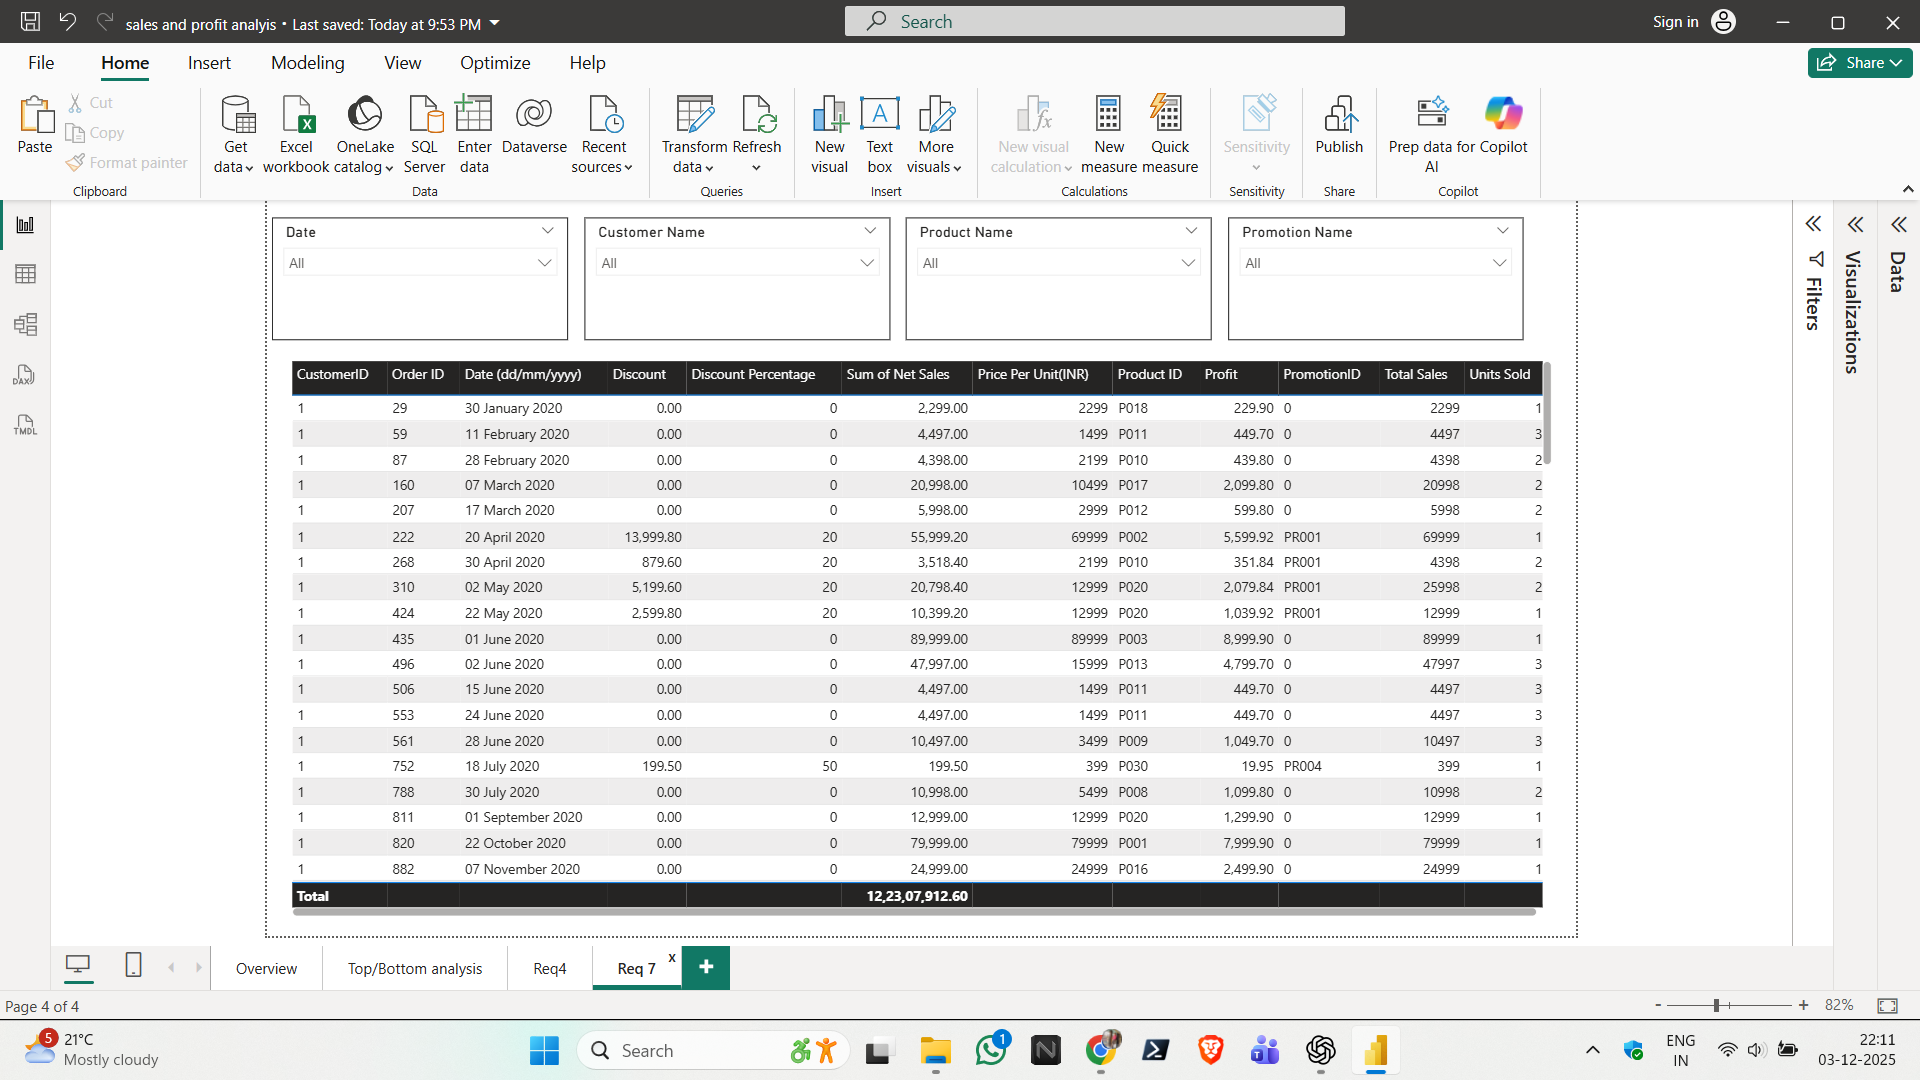

This screenshot's page, from the dashboard's own definition file:
{"tool":"powerbi","page":{"name":"Req 7","canvas":[1280,720],"ordinal":3},"visuals":[{"type":"tableEx","fields":{"Values":["facttable.CustomerID","facttable.Order ID","facttable.Date (dd/mm/yyyy)","facttable.Discount","facttable.Discount Percentage","Sum(facttable.Net Sales)","facttable.Price Per Unit(INR)","facttable.Product ID","facttable.Profit","facttable.PromotionID","facttable.Total Sales   ","facttable.Units Sold"]},"box":[17.8,152.3,1243.2,553],"z":0},{"type":"slicer","fields":{"Values":["Date Table 1.Date"]},"box":[4.9,17.1,289.8,119.8],"z":1000},{"type":"slicer","fields":{"Values":["Dim Customers.Customer Name"]},"box":[310.6,17.1,299.6,119.8],"z":2000},{"type":"slicer","fields":{"Values":["Dim Product.Product Name"]},"box":[624.9,17.1,299.6,119.8],"z":3000},{"type":"slicer","fields":{"Values":["Dim Promotion.Promotion Name"]},"box":[940.4,17.1,288.6,119.8],"z":4000}]}

Visuals, with their boxes on the page's 1280x720 design canvas (x1, y1, x2, y2). These are canvas units, not pixel positions in the 1920x1080 screenshot, which may show the page scaled, cropped or inside an application window:
tableEx - facttable.CustomerID x facttable.Order ID: rect(18, 152, 1261, 705)
slicer - Date Table 1.Date: rect(5, 17, 295, 137)
slicer - Dim Customers.Customer Name: rect(311, 17, 610, 137)
slicer - Dim Product.Product Name: rect(625, 17, 924, 137)
slicer - Dim Promotion.Promotion Name: rect(940, 17, 1229, 137)
